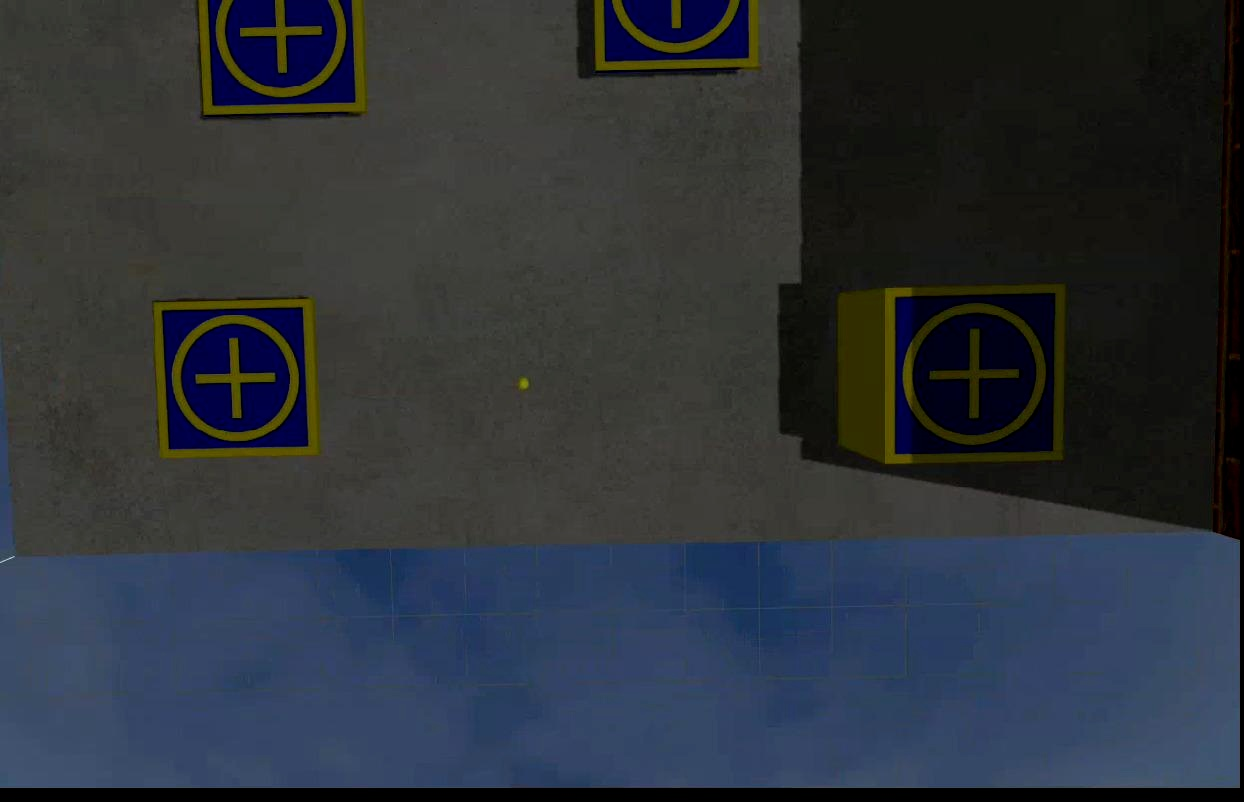small_base: (883, 283, 1068, 469), (151, 297, 322, 462), (199, 1, 369, 119), (593, 1, 763, 70)
